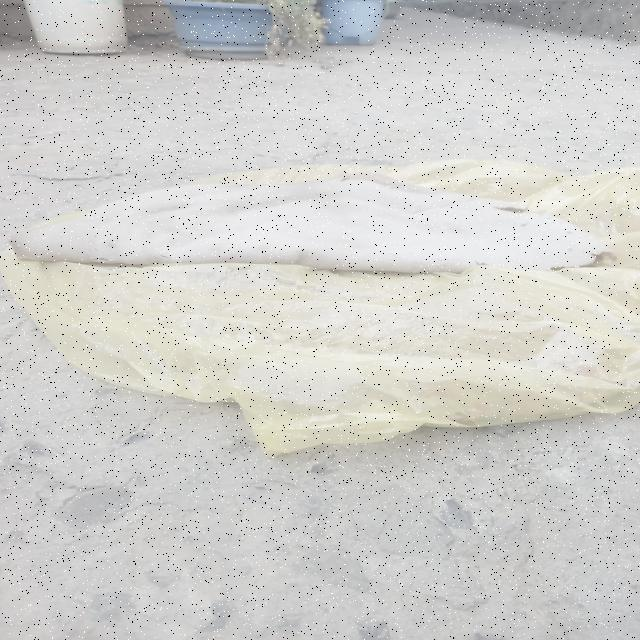injera_mold: (545, 216, 557, 224), (519, 222, 530, 229), (18, 254, 29, 260), (564, 228, 573, 235), (566, 246, 574, 253), (514, 207, 520, 210), (578, 237, 583, 240), (364, 209, 368, 212), (558, 238, 562, 240), (573, 226, 577, 228), (551, 220, 555, 222)
